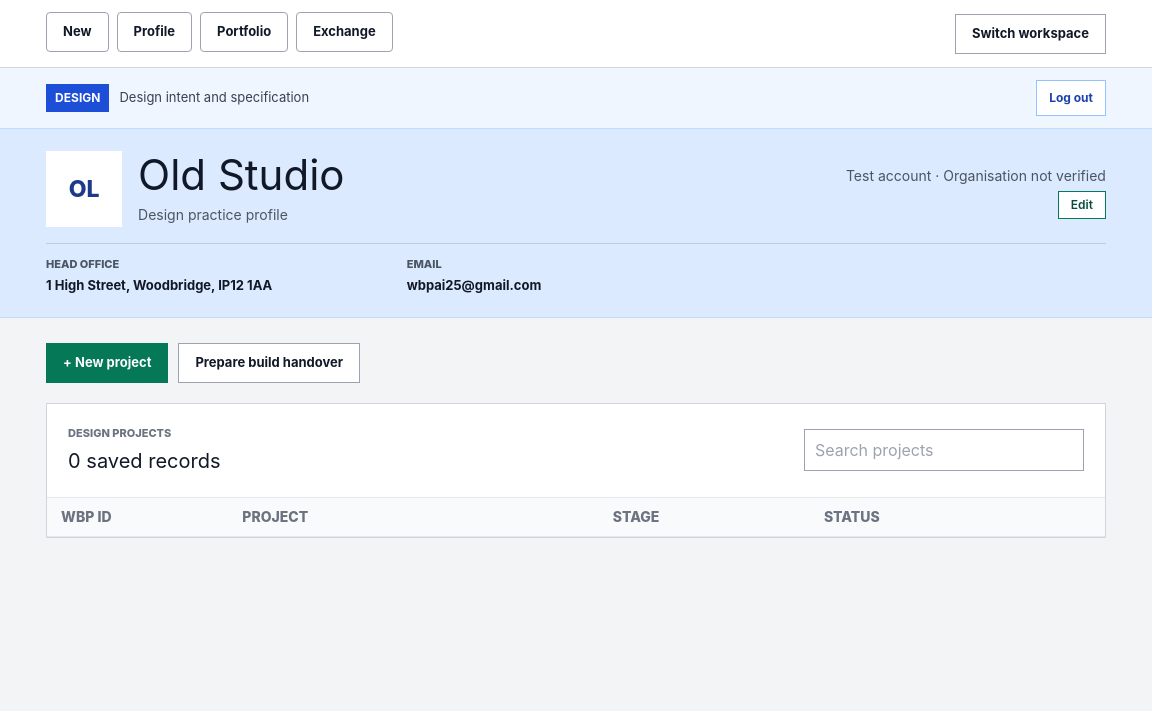
Test: Design banner edits are saved to the account profile
Expected: the heading "Old Studio" is shown, [138, 150, 344, 200]
Click the button "Edit".
click(1082, 205)  # box [1058, 191, 1106, 219]
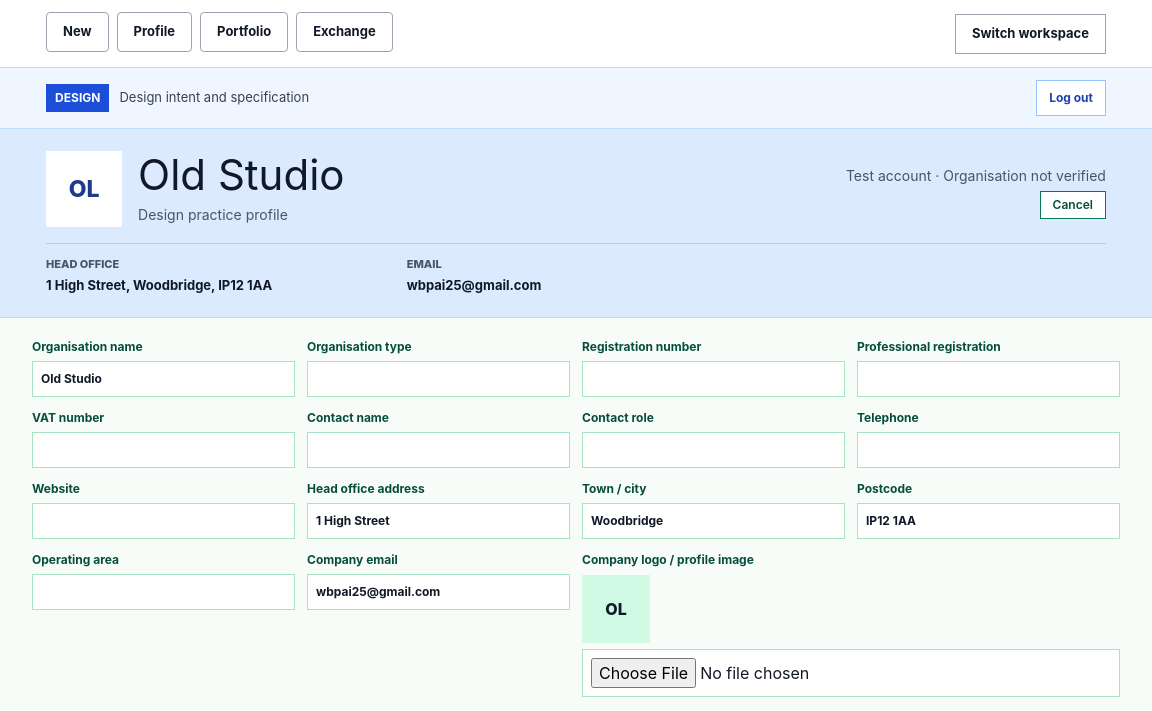
Replace the text in the field labelled "Organisation name" with "New Studio" at (164, 379), box [32, 361, 295, 397]
(page scrolled)
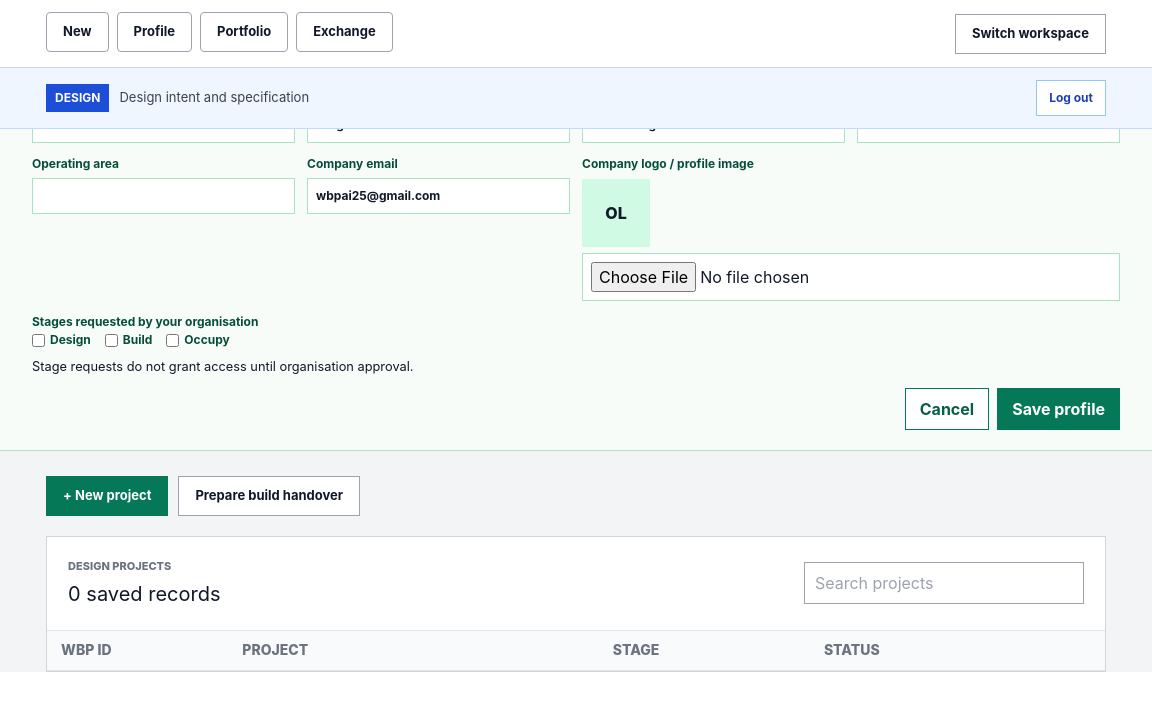
Click the button "Save profile".
click(1059, 409)  # box [997, 388, 1120, 430]
(page scrolled)
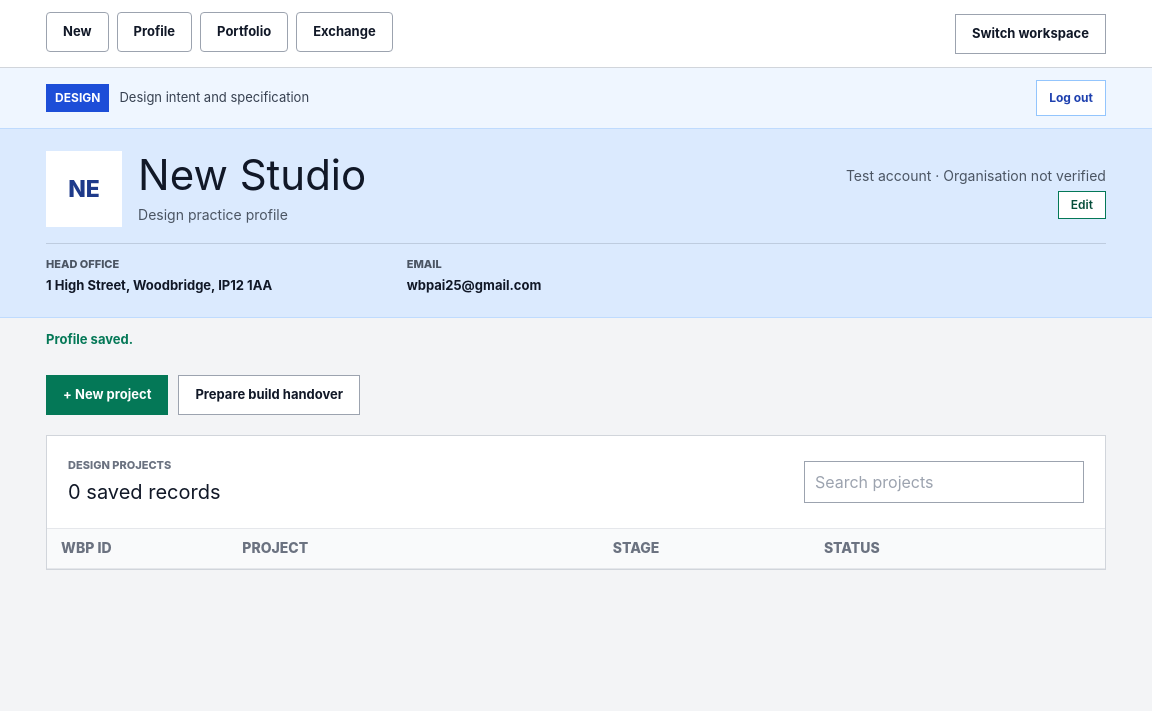
Now the heading "New Studio" is shown, box [138, 150, 366, 200]
